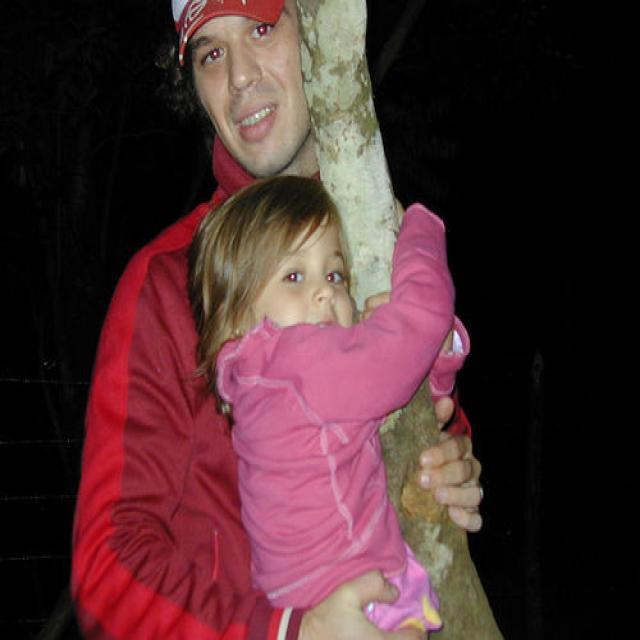person: (69, 1, 485, 639), (190, 175, 471, 639)
